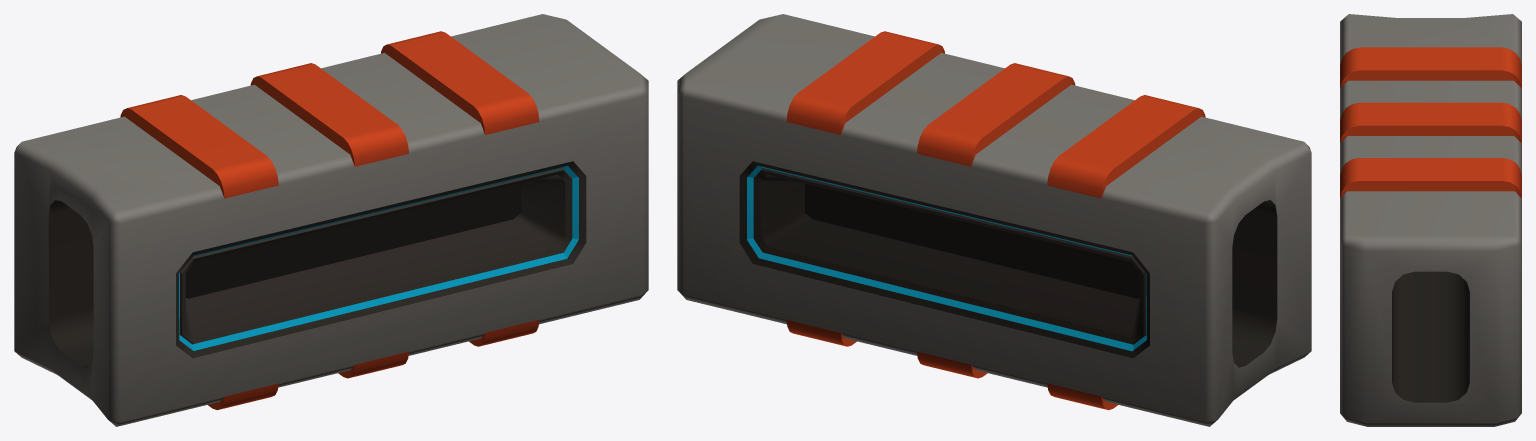
The model's file is Muzzle_Caliber3_05.fbx.
3 views of the same model, side by side, from view 1: azimuth 30°, elevation 25°; view 2: azimuth 150°, elevation 25°; view 3: azimuth 270°, elevation 25° (orthographic). The views are drawn at different scales.
Visible parts, largest first — view 1: Muzzle_Caliber3_05; view 2: Muzzle_Caliber3_05; view 3: Muzzle_Caliber3_05.
Part boxes in pixels (bbox=[...]): Muzzle_Caliber3_05: bbox=[14, 14, 648, 426]; Muzzle_Caliber3_05: bbox=[677, 14, 1311, 426]; Muzzle_Caliber3_05: bbox=[1340, 14, 1521, 426].
Size of the model in its own units: 28.35 by 11.79 by 9.36.
